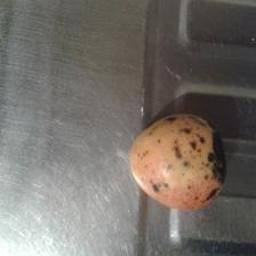Mango Rotten: (117, 98, 242, 222)
